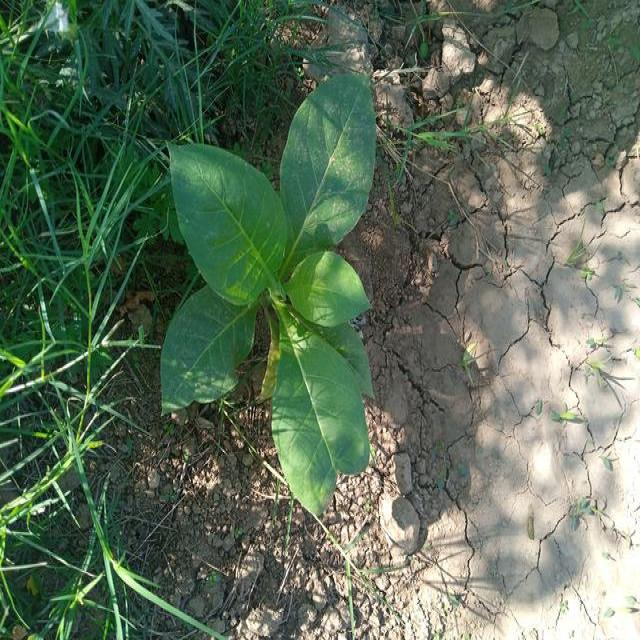crop: (164, 77, 394, 510)
